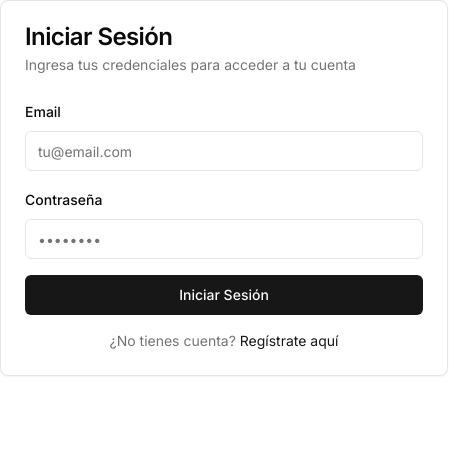
Test case: LoginForm › shows validation errors for invalid inputs
Click the button "Iniciar Sesión".
click(224, 295)  # box x1=25 y1=275 x2=423 y2=315
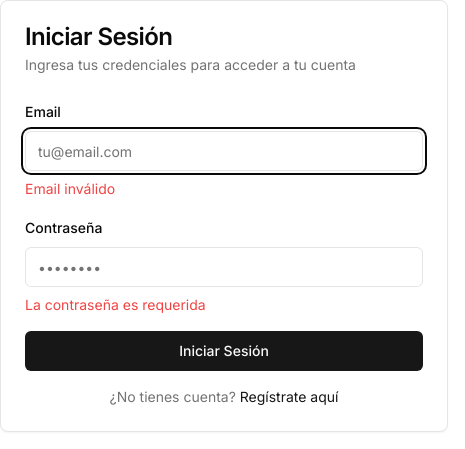
Expected: the text "Email inválido" is shown, x1=25 y1=180 x2=115 y2=197
Expected: the text "La contraseña es requerida" is shown, x1=25 y1=296 x2=206 y2=313
